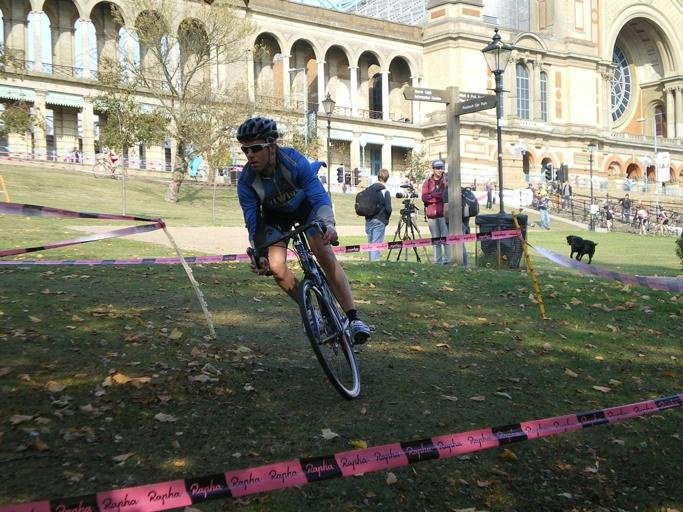non-vehicle: (247, 217, 366, 399), (93, 152, 126, 180)
